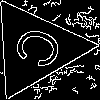C: (10, 23, 75, 77)
